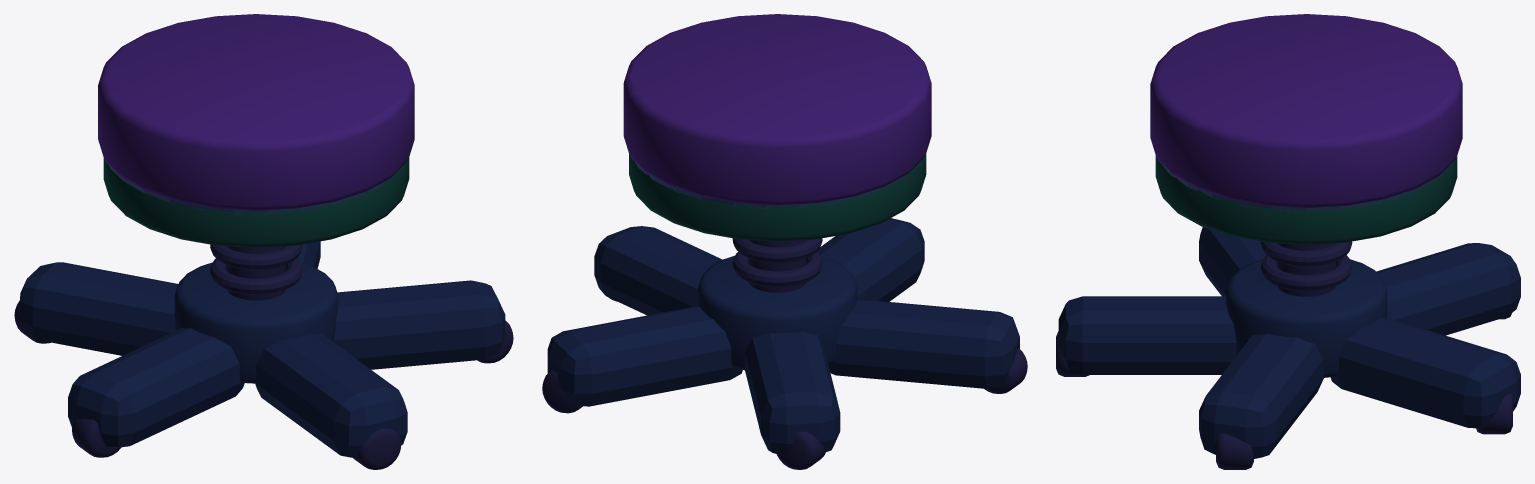
File: prp_base_workshop_stool_visual_top3d_v003.glb
The picture shows the model from 3 angles, left to right: view 1: azimuth 30°, elevation 25°; view 2: azimuth 150°, elevation 25°; view 3: azimuth 270°, elevation 25°; orthographic projection. The views are drawn at different scales.
Visible parts, largest first — view 1: 赛博维修圆凳_主体_金属哑光反光; view 2: 赛博维修圆凳_主体_金属哑光反光; view 3: 赛博维修圆凳_主体_金属哑光反光.
Boxes of the visible parts, left/top/right/bottom form: 赛博维修圆凳_主体_金属哑光反光: left=14, top=14, right=513, bottom=469; 赛博维修圆凳_主体_金属哑光反光: left=542, top=14, right=1027, bottom=469; 赛博维修圆凳_主体_金属哑光反光: left=1056, top=14, right=1520, bottom=469.
Size of the model in its own units: 1.28 by 0.8569 by 1.21.
3 materials, 3 textured.
